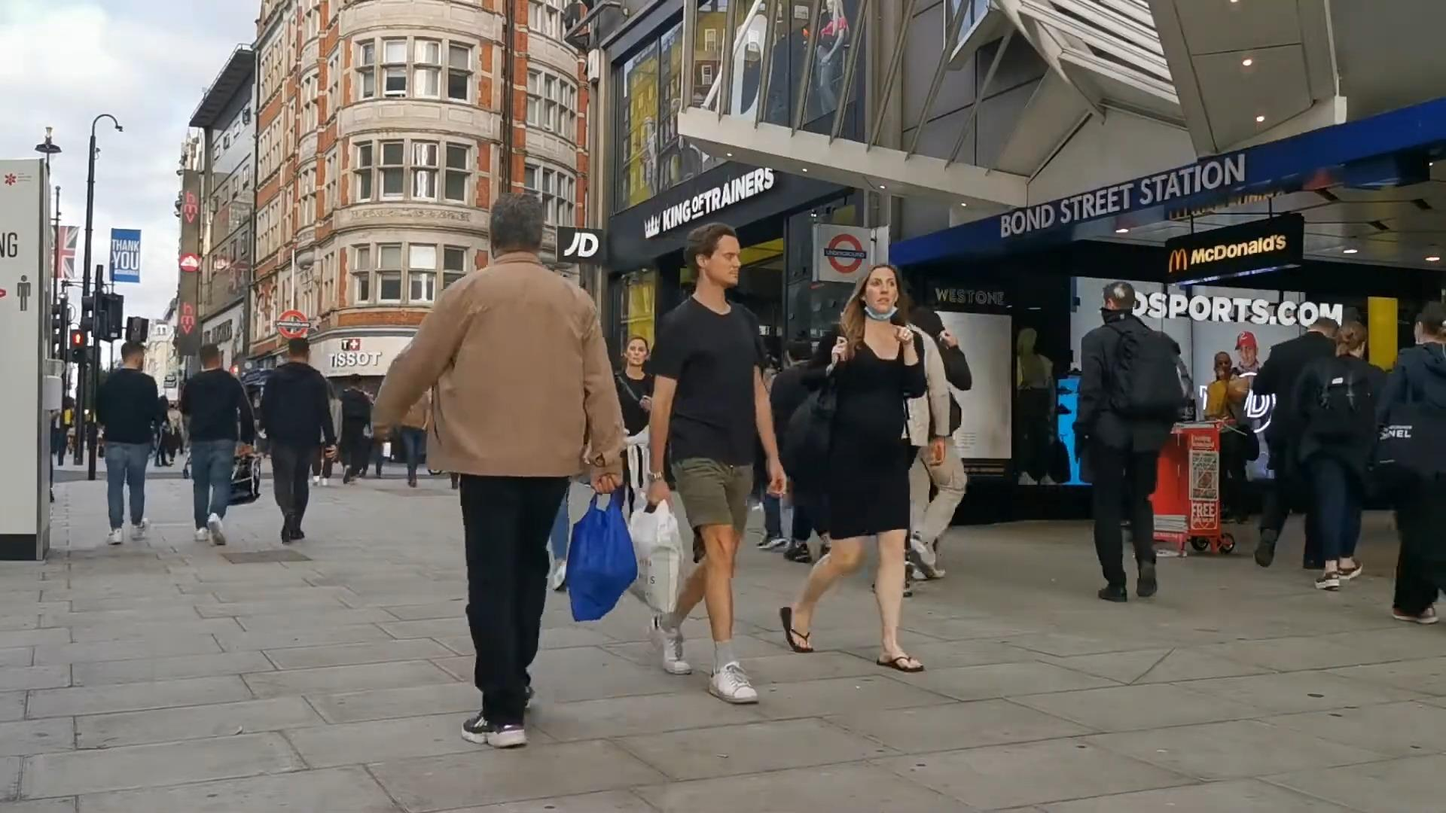no-helmet: (685, 222, 742, 289), (489, 193, 543, 259), (853, 262, 904, 321), (1413, 301, 1446, 345), (1100, 281, 1136, 320), (1334, 320, 1368, 360), (623, 335, 649, 366), (121, 340, 146, 371), (1307, 316, 1338, 340), (287, 337, 311, 364), (200, 343, 220, 369)
